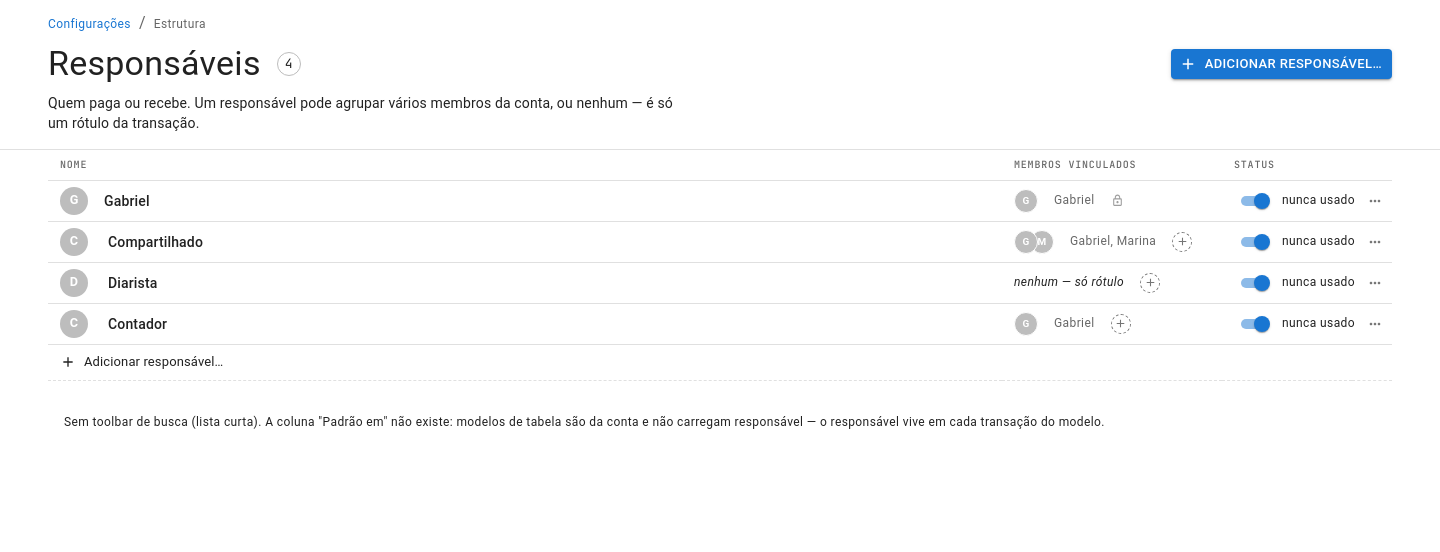
ResponsiblePartiesManager (revisão 'Tudo é responsável') › expõe verUso e mesclar no menu de um responsável comum, mas NÃO no `personal`
The width and height of the screenshot is (1440, 552).
Click the button named "Ações desta linha: Contador" at (1375, 324), box [1362,310,1388,336]
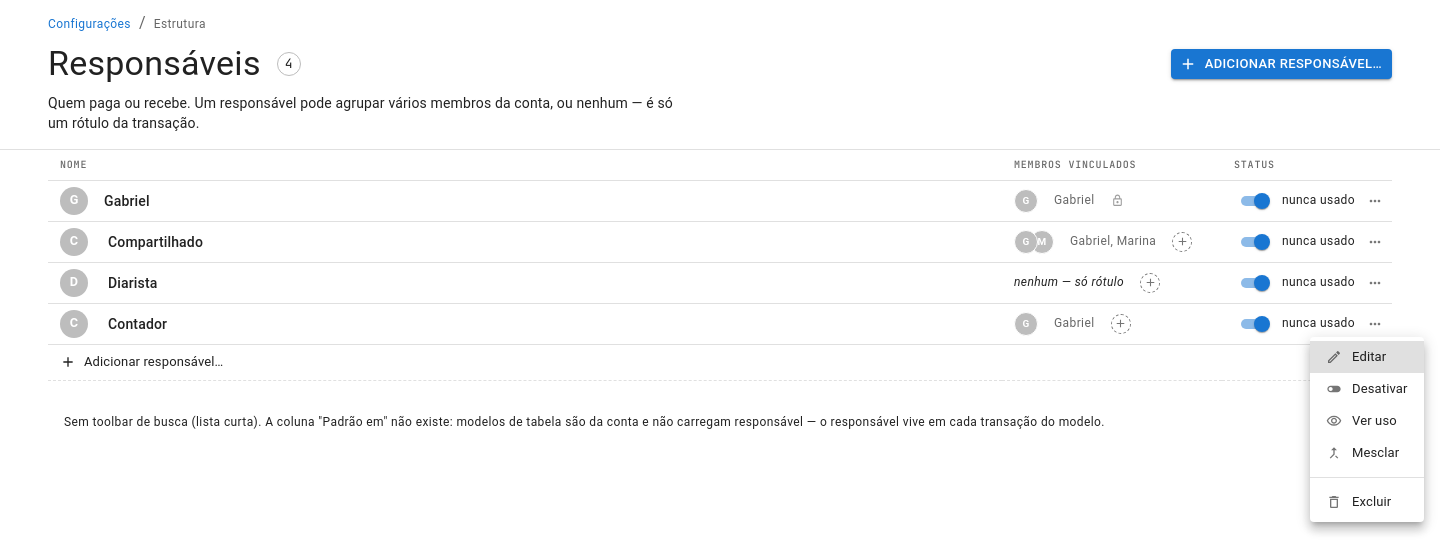
Result: the menu item "Ver uso" is shown at [1326,413,1397,429]
Result: the menu item "Mesclar" is shown at [1326,445,1399,461]
Result: the menu item "Excluir" is shown at [1326,494,1391,510]
Press Escape
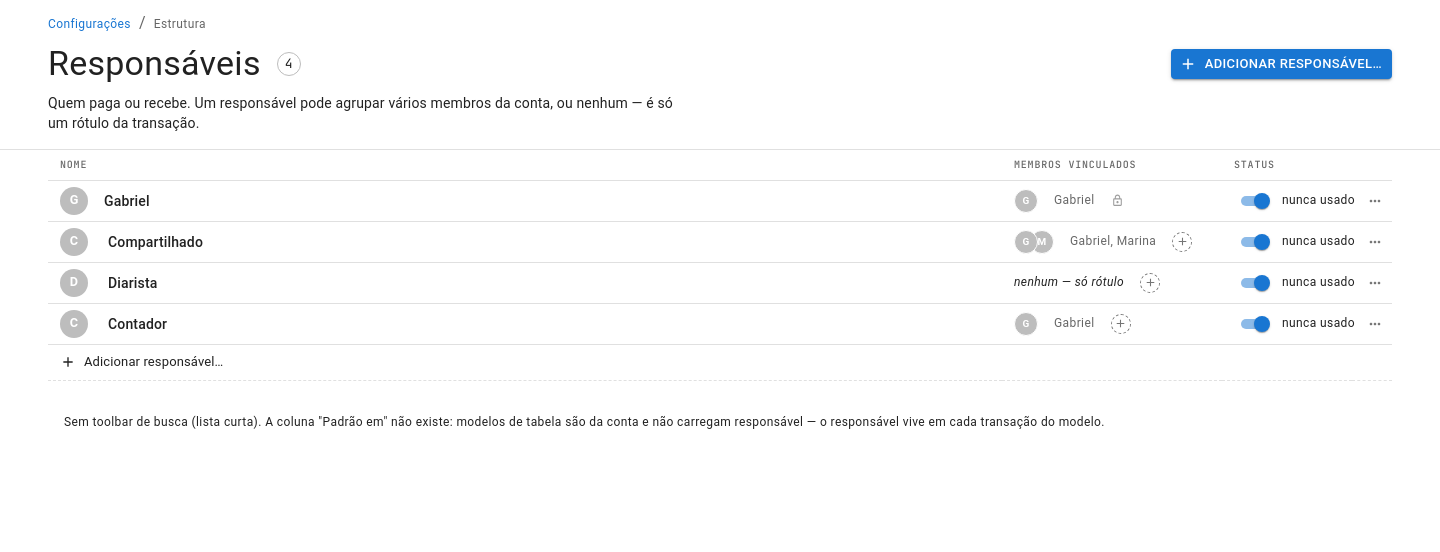
Result: the menu is gone
Click the button named "Ações desta linha: Gabriel" at (1375, 200), box [1362,188,1388,214]
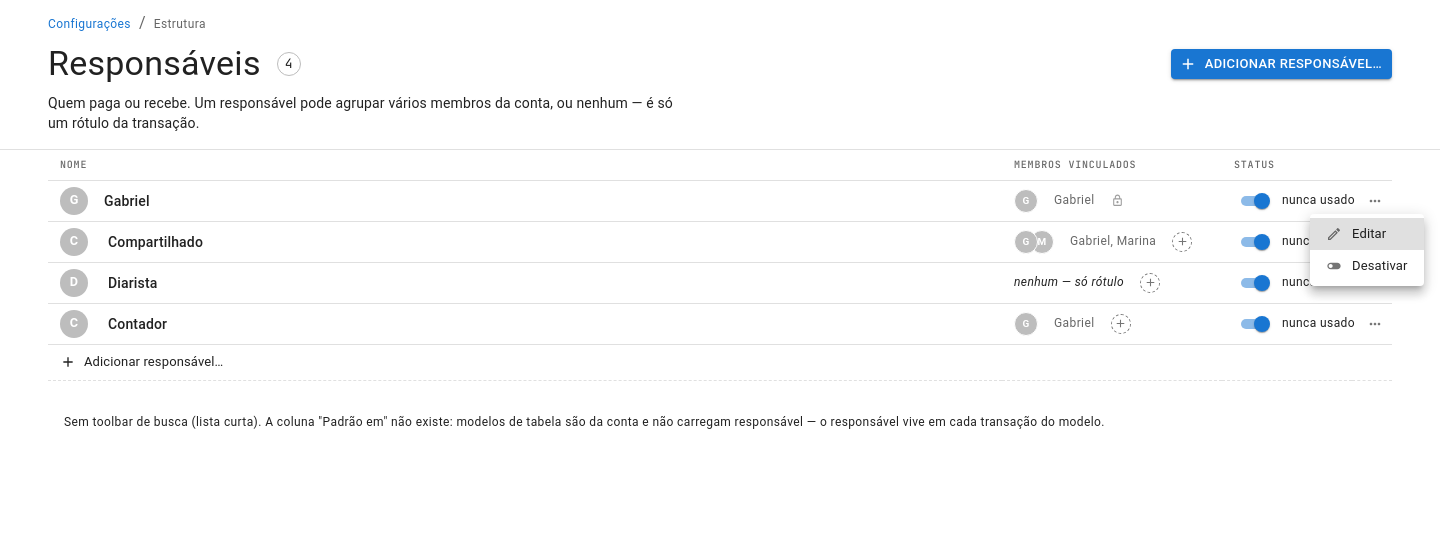
Expected: the menu item "Ver uso" is not shown
Result: the menu item "Editar" is shown at [1310,218,1424,250]
Result: the menu item "Desativar" is shown at [1326,258,1408,274]
